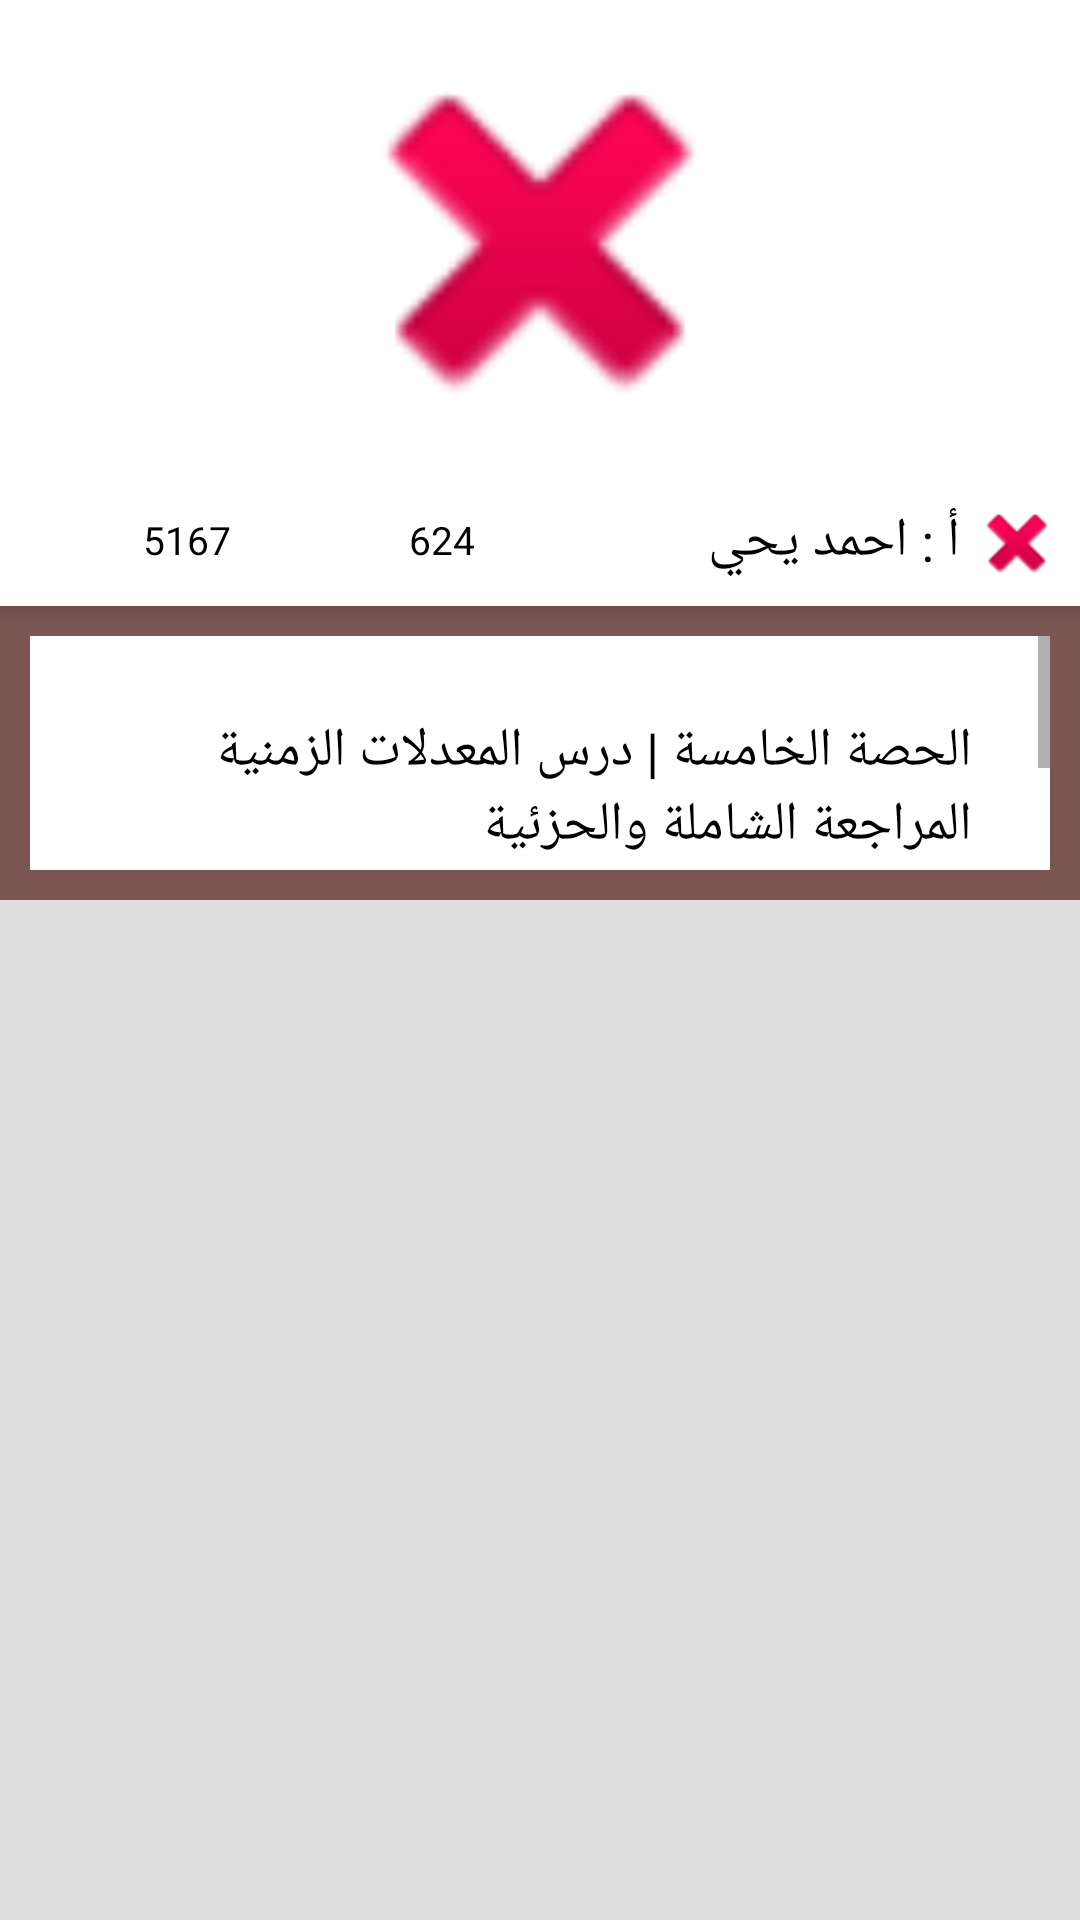

Where icons sit on this 1080w x 1920h app screen, as {"x1": x1, "y1": y1, "x2": x2, "y2": y2}:
delete: {"x1": 387, "y1": 94, "x2": 693, "y2": 390}, {"x1": 986, "y1": 514, "x2": 1048, "y2": 573}
